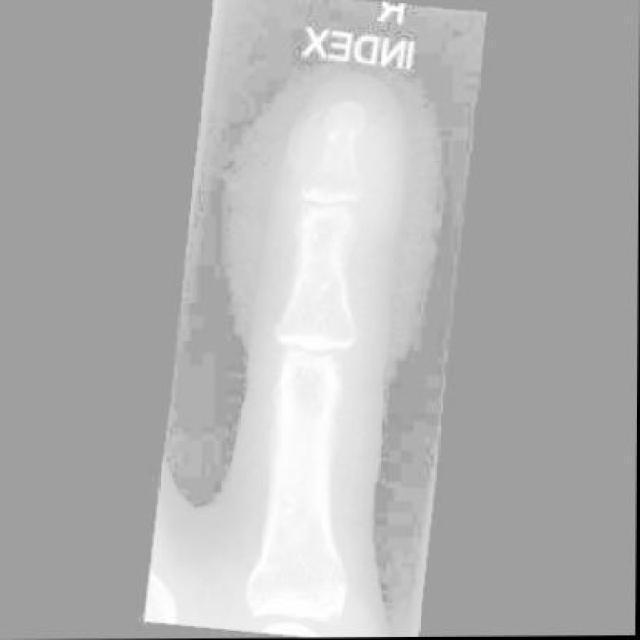Fracture: (328, 100, 375, 134)
